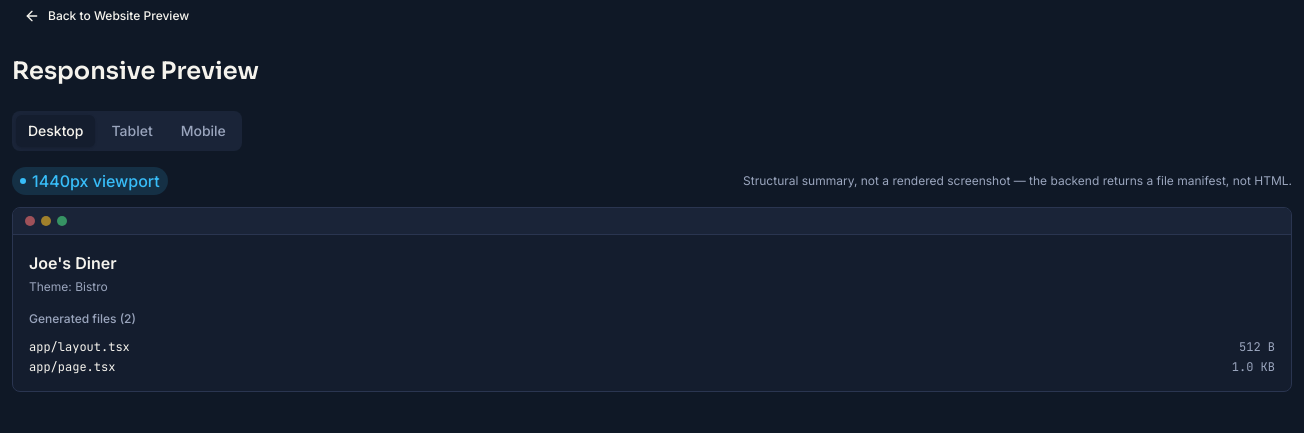
ResponsivePreview › switching device tabs changes only the displayed viewport, without a second fetch
The width and height of the screenshot is (1304, 433).
Expected: the text "1440px viewport" is shown, [12,167,168,195]
Click the tab "Mobile": (203, 131) [169,115,238,147]
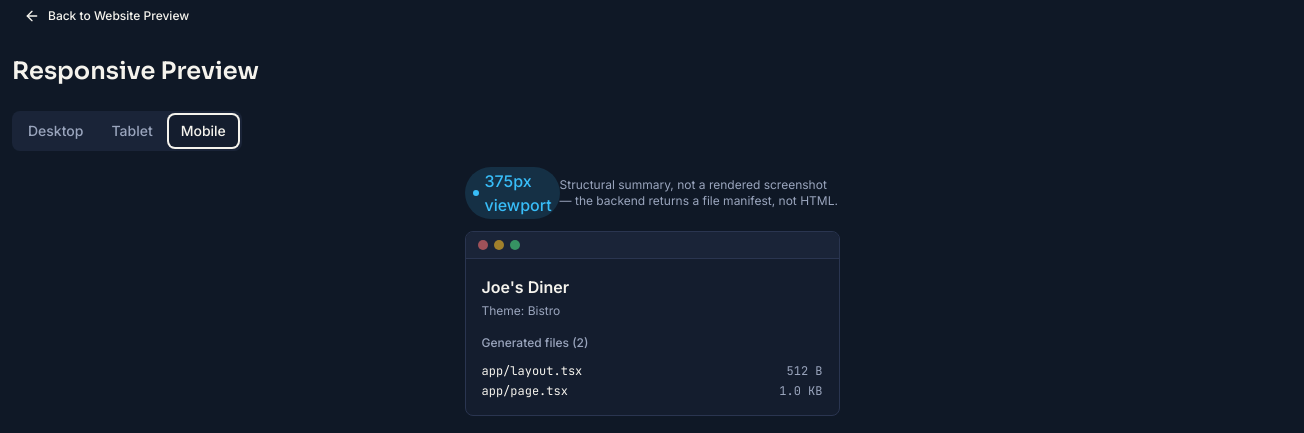
Result: the text "375px viewport" is shown at [464,167,560,219]
